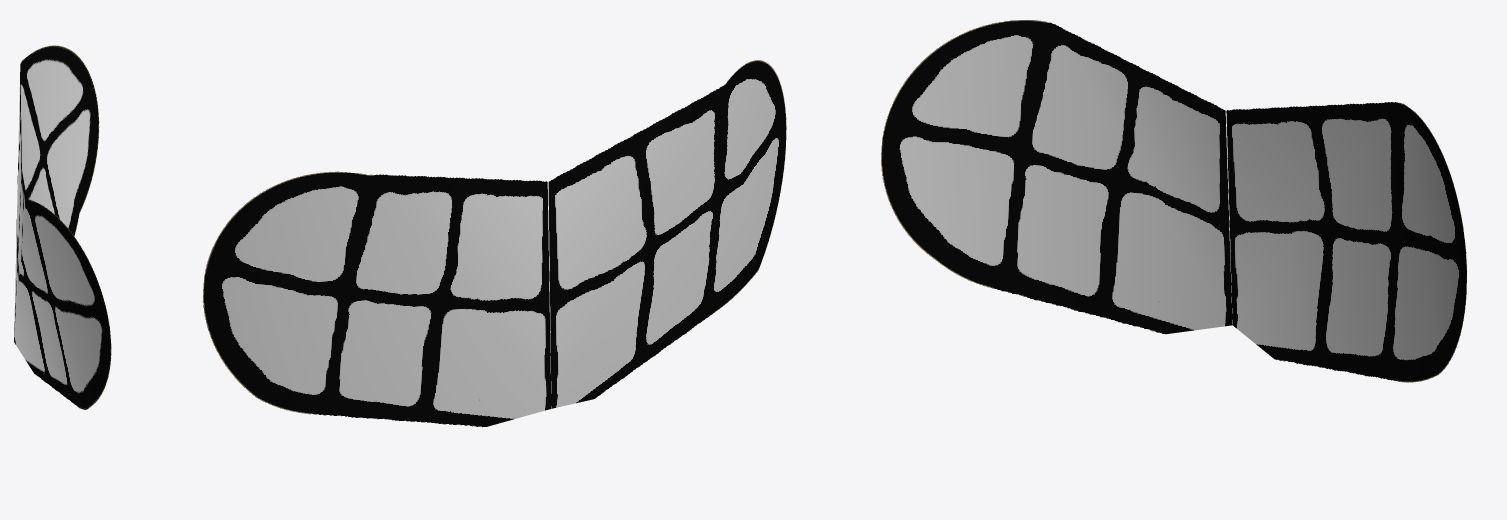
Rendered from KangMouf.fbx.
3 renders of one model, left to right at view 1: azimuth 30°, elevation 25°; view 2: azimuth 150°, elevation 25°; view 3: azimuth 270°, elevation 25°, orthographic. The views are drawn at different scales.
Parts seen in each view (by area): view 1: Icosphere.007; view 2: Icosphere.007; view 3: Icosphere.007.
Boxes of the visible parts, box(x1,y1,x2,y2) form: Icosphere.007: box(14, 45, 111, 409); Icosphere.007: box(203, 60, 786, 427); Icosphere.007: box(881, 20, 1466, 382).
Bounding box in the file's own units: 48.32 × 47.49 × 82.08.
